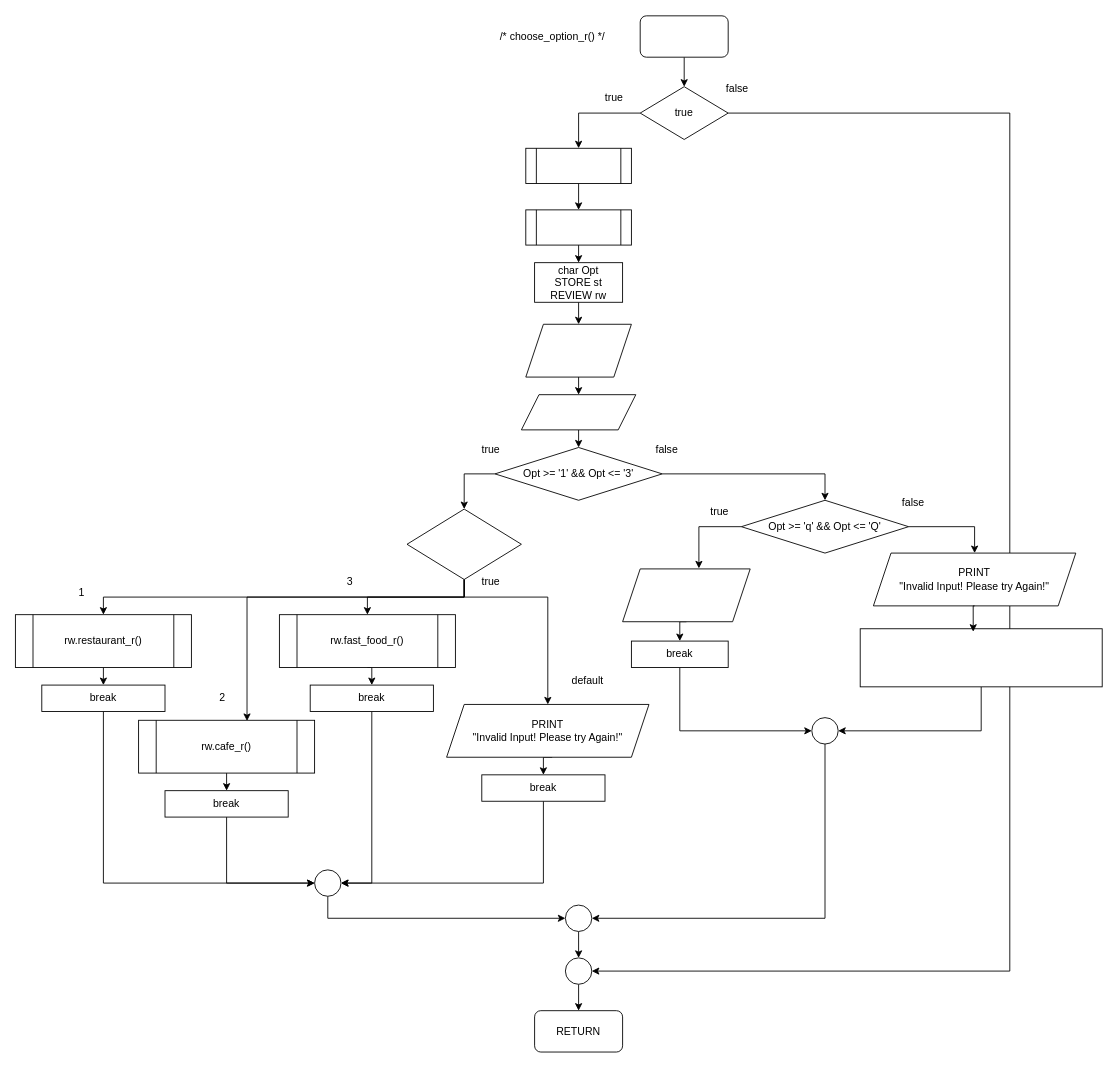
The diagram is 1118 pixels wide and 1067 high, and some of its shapes have lost their labels. The centre of each missing label's shape, as x and y in pixels:
choose_option_r(): (x=683, y=36)
cin.ignore(numeric_limits<streamsize>::max(), '\n') cin.get(): (x=980, y=657)
clear_screen(): (x=578, y=165)
instruct(): (x=578, y=227)
PRINT "Enter Option": (x=578, y=350)
PRINT "Successfully Quit": (x=686, y=595)
READ Opt: (x=578, y=412)
switch(ch): (x=463, y=543)
